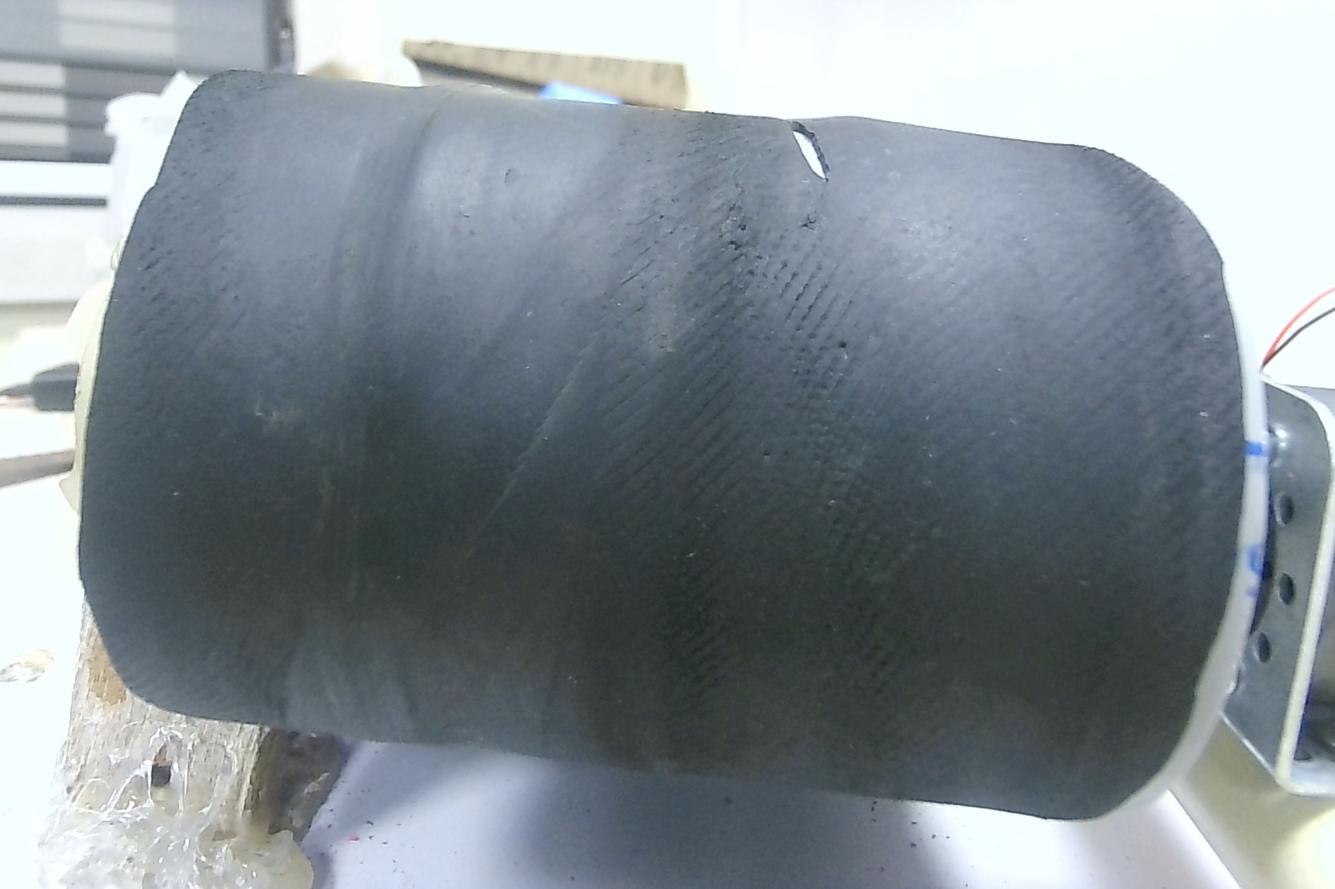tear: (783, 112, 838, 189)
